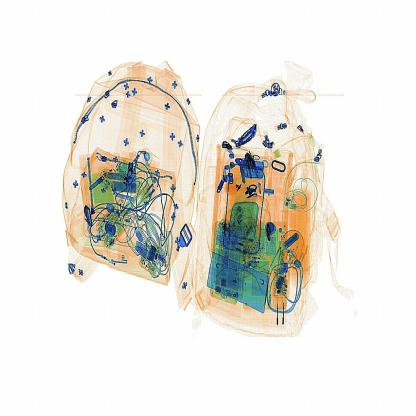knife: (235, 126, 260, 148)
